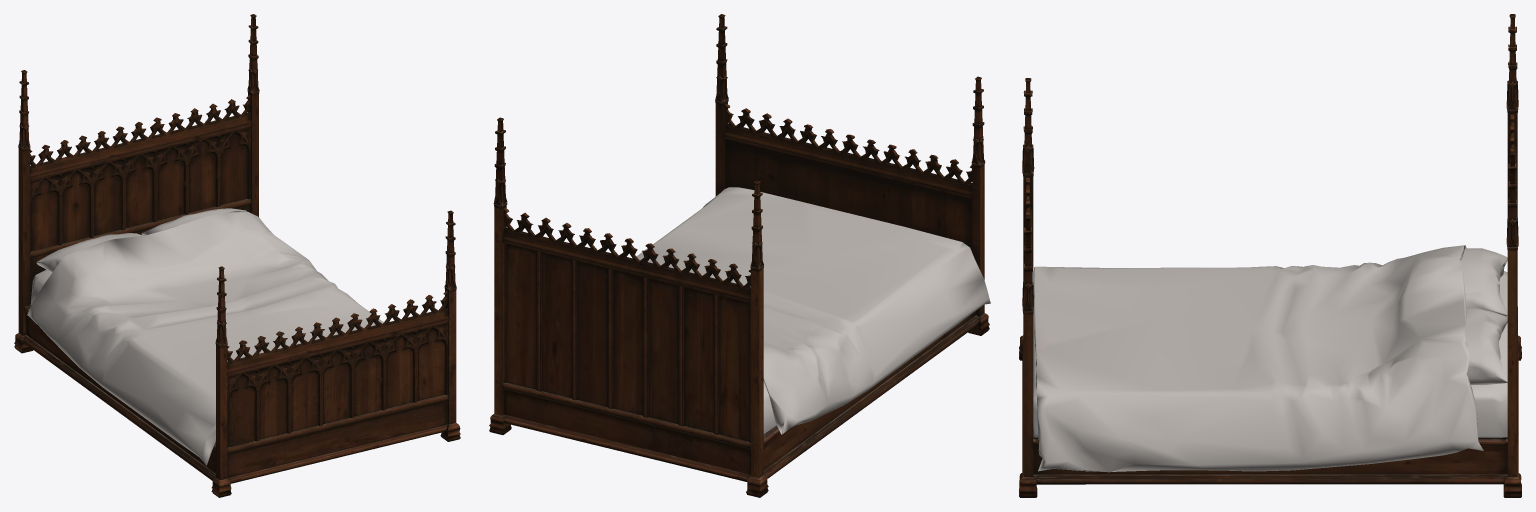
File: GothicBed_01.glb
The picture shows the model from 3 angles, left to right: view 1: azimuth 30°, elevation 25°; view 2: azimuth 150°, elevation 25°; view 3: azimuth 270°, elevation 25°; orthographic projection. The views are drawn at different scales.
Visible parts, largest first — view 1: GothicBed_01; view 2: GothicBed_01; view 3: GothicBed_01.
Boxes of the visible parts, x1=… form: GothicBed_01: x1=14, y1=14, x2=460, y2=497; GothicBed_01: x1=489, y1=14, x2=990, y2=497; GothicBed_01: x1=1019, y1=14, x2=1521, y2=497.
Bounding box in the file's own units: 1.49 × 1.53 × 2.04.
Materials: 1 (1 with a texture image).
